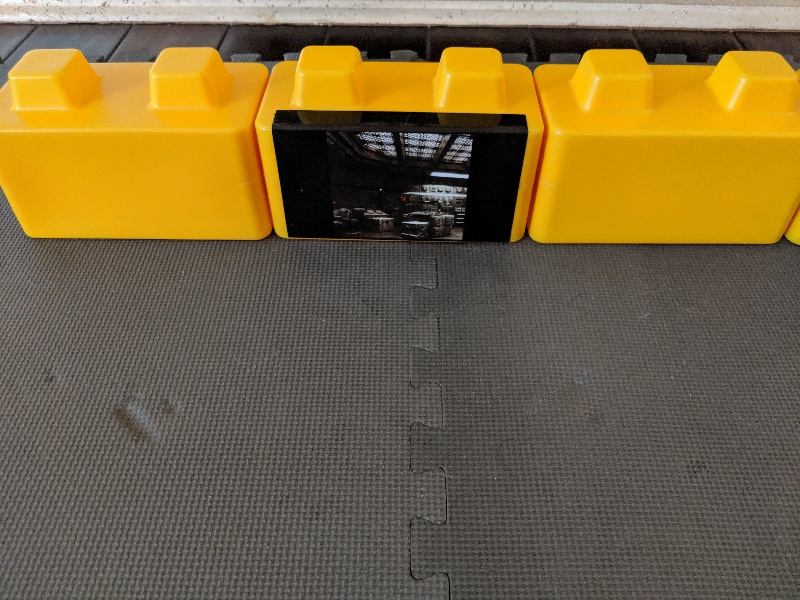Skystone: (260, 99, 529, 254)
